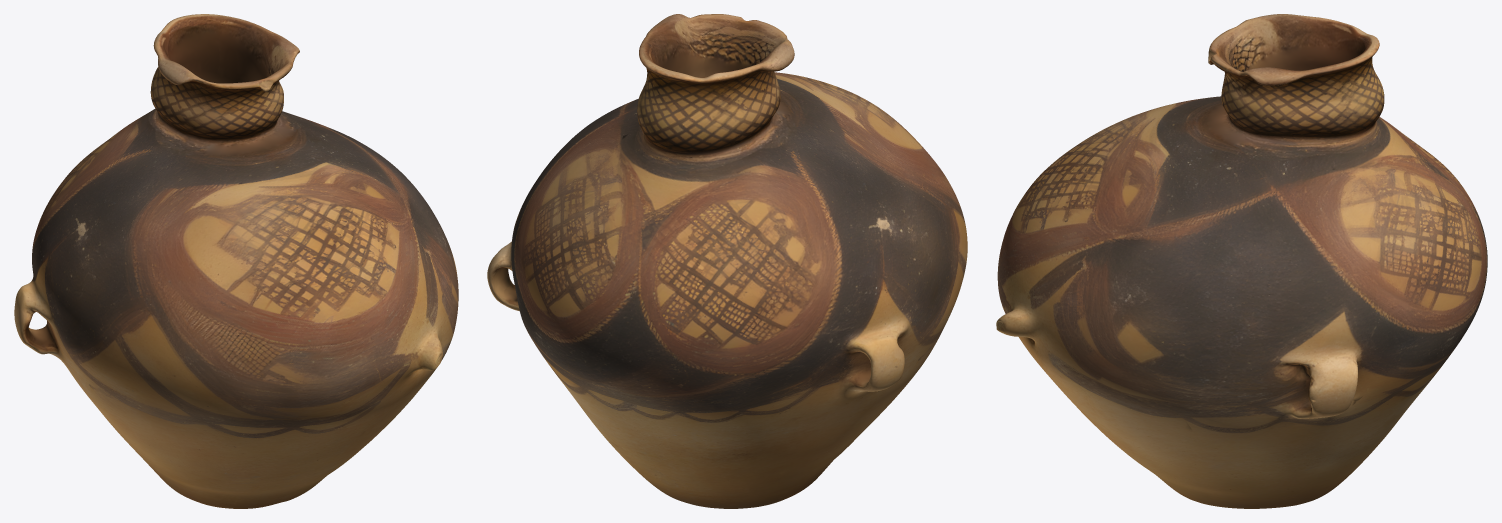
Rendered from wanggewencaitaohuB.glb.
3 renders of one model, left to right at view 1: azimuth 30°, elevation 25°; view 2: azimuth 150°, elevation 25°; view 3: azimuth 270°, elevation 25°, orthographic. The views are drawn at different scales.
Parts seen in each view (by area): view 1: node_0; view 2: node_0; view 3: node_0.
Boxes of the visible parts, <box> form: node_0: <box>14,14,458,508</box>; node_0: <box>487,14,967,508</box>; node_0: <box>996,14,1487,508</box>.
Bounding box in the file's own units: 0.9915 × 1.05 × 1.06.
Materials: 1 (1 with a texture image).
